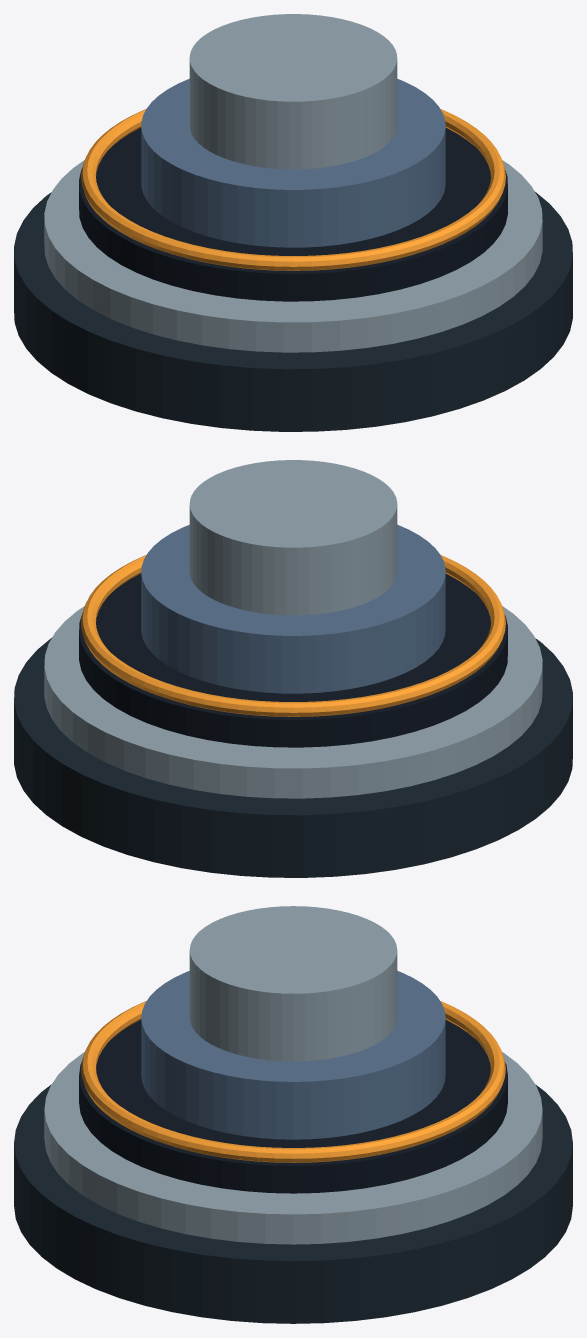
The model's file is 03_L84_RotationalTestRigPedestal.fbx.
The picture shows the model from 3 angles, top to bottom: view 1: azimuth 30°, elevation 25°; view 2: azimuth 150°, elevation 25°; view 3: azimuth 270°, elevation 25°; orthographic projection.
Parts seen in each view (by area): view 1: L84_RotationalTestRigPedestal; view 2: L84_RotationalTestRigPedestal; view 3: L84_RotationalTestRigPedestal.
Boxes of the visible parts, box(x1,y1,x2,y2) form: L84_RotationalTestRigPedestal: box(14, 14, 572, 431); L84_RotationalTestRigPedestal: box(14, 460, 572, 877); L84_RotationalTestRigPedestal: box(14, 906, 572, 1323).
Size of the model in its own units: 404 by 204 by 404.
